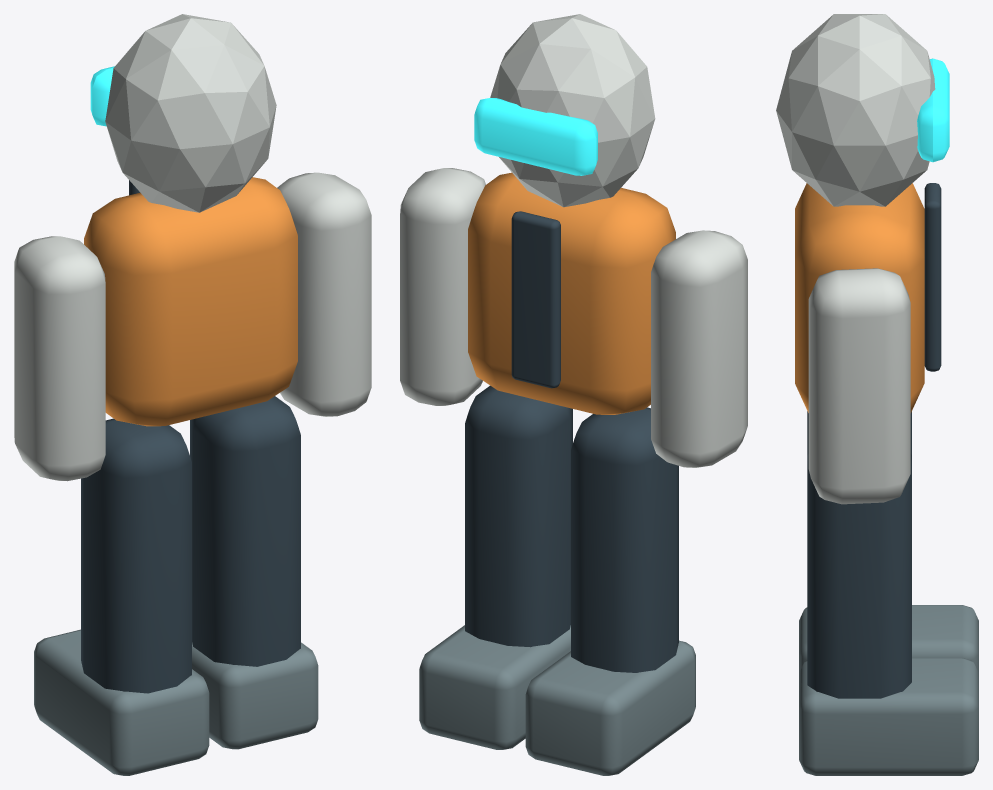
Rendered from crew.glb.
3 renders of one model, left to right at view 1: azimuth 30°, elevation 25°; view 2: azimuth 150°, elevation 25°; view 3: azimuth 270°, elevation 25°, orthographic. The views are drawn at different scales.
Visible parts, largest first — view 1: crew; view 2: crew; view 3: crew.
Part boxes in pixels (x1,y1,x2,y2): crew: [14, 14, 371, 775]; crew: [400, 14, 747, 775]; crew: [776, 14, 978, 775].
Size of the model in its own units: 0.919 by 1.89 by 0.485.
